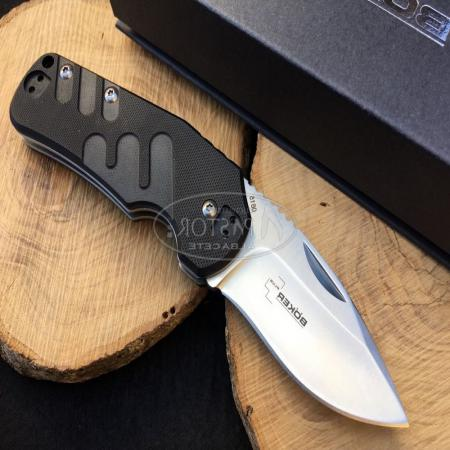long weapon: (194, 170, 418, 430)
